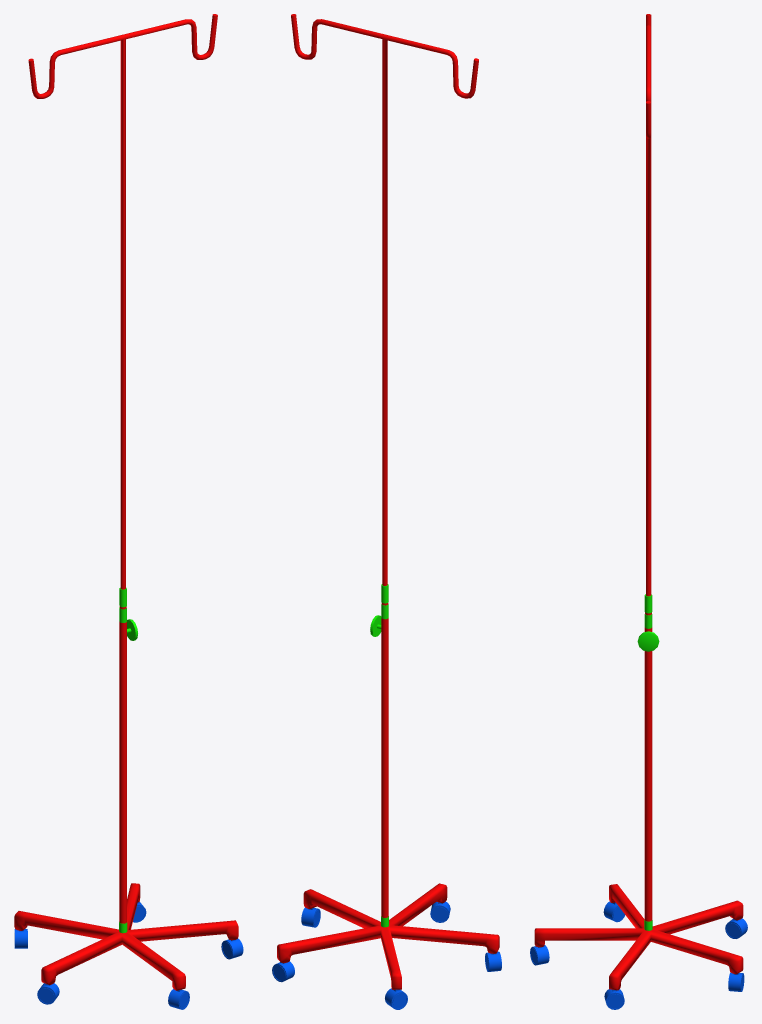
The model's file is hospital_fnt_portasueros1.fbx.
The picture shows the model from 3 angles, left to right: view 1: azimuth 30°, elevation 25°; view 2: azimuth 150°, elevation 25°; view 3: azimuth 270°, elevation 25°; orthographic projection. The views are drawn at different scales.
Visible parts, largest first — view 1: hospital_fnt_portasueros1; view 2: hospital_fnt_portasueros1; view 3: hospital_fnt_portasueros1.
Part boxes in pixels (x1,y1,x2,y2): hospital_fnt_portasueros1: (14,14,243,1009); hospital_fnt_portasueros1: (272,14,501,1009); hospital_fnt_portasueros1: (530,14,747,1009).
Size of the model in its own units: 41.99 by 187 by 40.63.
